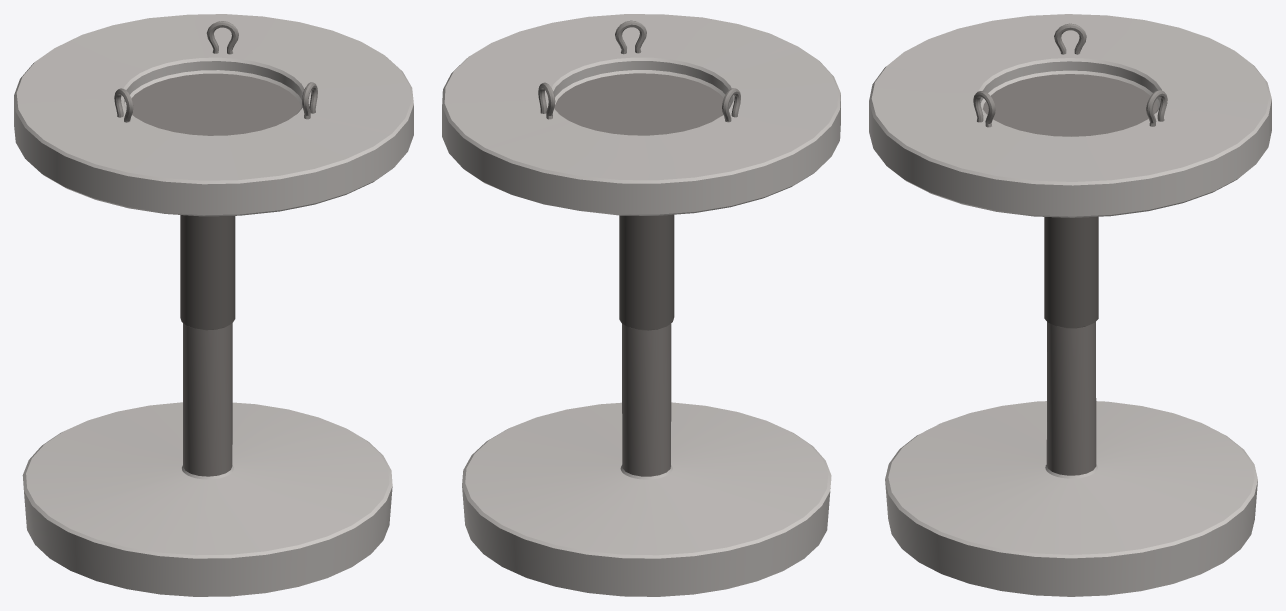
The model's file is PC_Piston01.fbx.
3 views of the same model, side by side, from view 1: azimuth 30°, elevation 25°; view 2: azimuth 150°, elevation 25°; view 3: azimuth 270°, elevation 25° (orthographic).
Visible parts, largest first — view 1: PC_Piston01; view 2: PC_Piston01; view 3: PC_Piston01.
Boxes of the visible parts, <box> form: PC_Piston01: <box>14,14,413,596</box>; PC_Piston01: <box>442,14,840,596</box>; PC_Piston01: <box>869,14,1271,596</box>.
Bounding box in the file's own units: 0.4199 × 0.527 × 0.4199.
